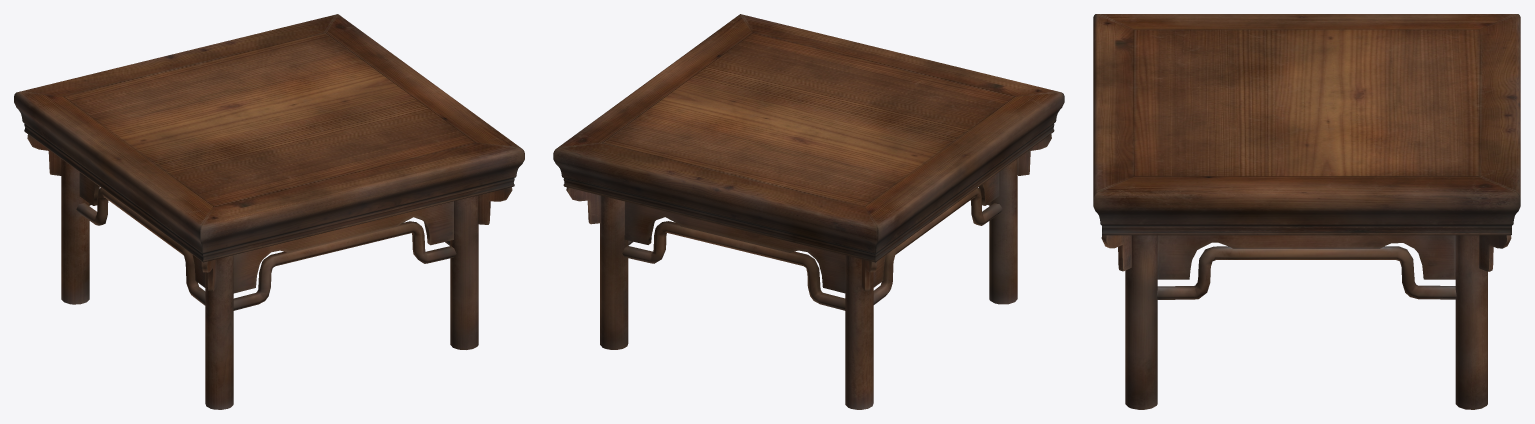
The model's file is chinese_tea_table_lod1.glb.
3 views of the same model, side by side, from view 1: azimuth 30°, elevation 25°; view 2: azimuth 150°, elevation 25°; view 3: azimuth 270°, elevation 25° (orthographic). The views are drawn at different scales.
Visible parts, largest first — view 1: chinese_tea_table; view 2: chinese_tea_table; view 3: chinese_tea_table.
Boxes of the visible parts, <box> form: chinese_tea_table: <box>14,14,524,409</box>; chinese_tea_table: <box>553,14,1064,409</box>; chinese_tea_table: <box>1093,14,1520,409</box>.
Size of the model in its own units: 0.8405 by 0.4986 by 0.8348.
Materials: 1 (1 with a texture image).
